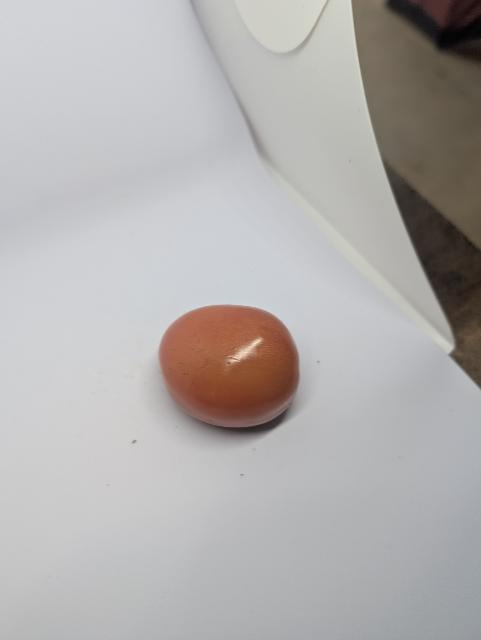red: (155, 301, 304, 432)
